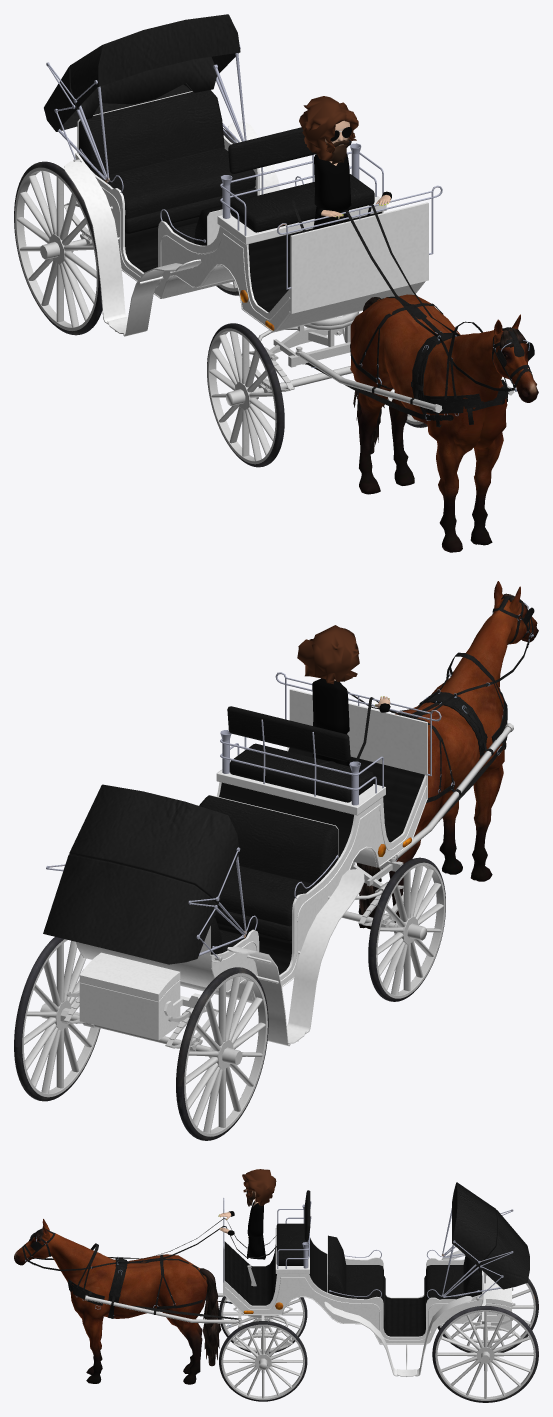
Rendered from Horse and Carriage.fbx.
3 views of the same model, one above another, from view 1: azimuth 30°, elevation 25°; view 2: azimuth 150°, elevation 25°; view 3: azimuth 270°, elevation 25° (orthographic). The views are drawn at different scales.
Visible parts, largest first — view 1: Horse and Carriage, Cause.002; view 2: Horse and Carriage, Cause.002; view 3: Horse and Carriage, Cause.002.
Boxes of the visible parts, x1,y1,x2,y2 form: Horse and Carriage: (14,14,538,552); Cause.002: (299,96,391,229); Horse and Carriage: (14,581,538,1140); Cause.002: (297,625,390,766); Horse and Carriage: (14,1182,538,1402); Cause.002: (218,1169,276,1259).
Size of the model in its own units: 179 by 304 by 692.
